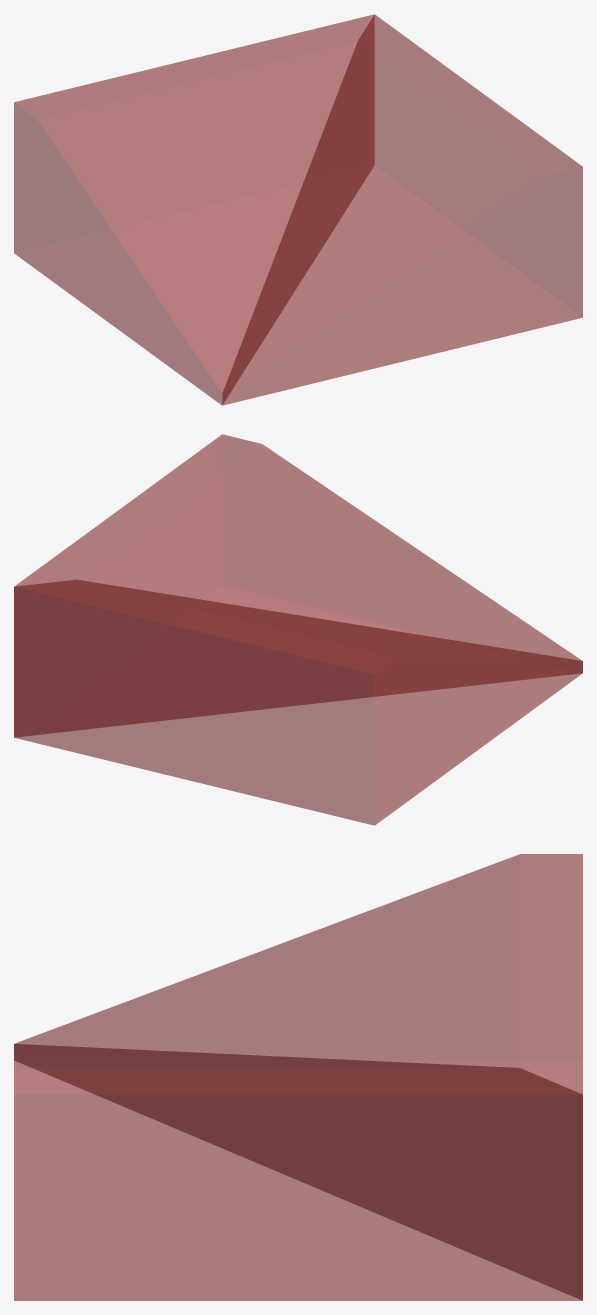
File: SM_Bld_Steps_01_Corner_Inner_01_Collision.fbx
3 views of the same model, one above another, from view 1: azimuth 30°, elevation 25°; view 2: azimuth 150°, elevation 25°; view 3: azimuth 270°, elevation 25° (orthographic). The views are drawn at different scales.
Visible parts, largest first — view 1: SM_Bld_Steps_01_Corner_Inner_01_Collision; view 2: SM_Bld_Steps_01_Corner_Inner_01_Collision; view 3: SM_Bld_Steps_01_Corner_Inner_01_Collision.
Part boxes in pixels (box(x1,y1,x2,y2)): SM_Bld_Steps_01_Corner_Inner_01_Collision: box(14, 14, 582, 405); SM_Bld_Steps_01_Corner_Inner_01_Collision: box(14, 434, 582, 825); SM_Bld_Steps_01_Corner_Inner_01_Collision: box(14, 854, 582, 1300).
Size of the model in its own units: 250 by 100 by 250.
